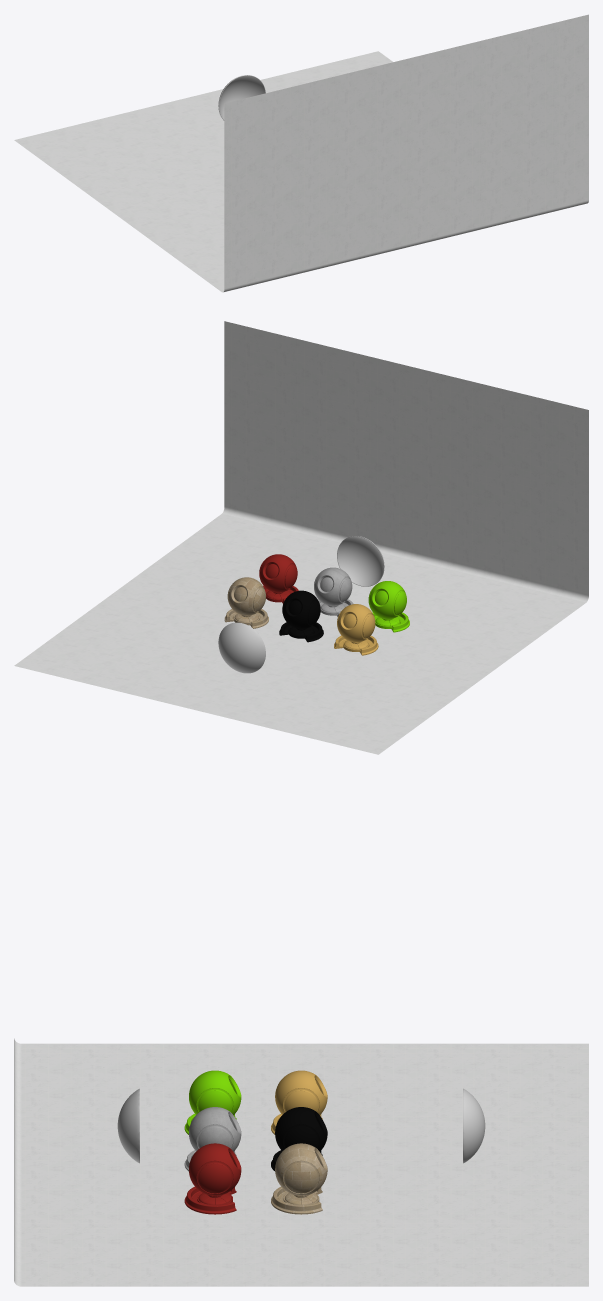
File: ShaderBalls.gltf
3 views of the same model, one above another, from view 1: azimuth 30°, elevation 25°; view 2: azimuth 150°, elevation 25°; view 3: azimuth 270°, elevation 25° (orthographic). The views are drawn at different scales.
Visible parts, largest first — view 1: Floor, LupaPupa_Icosphere; view 2: Floor, LupaPupa_Icosphere, PupaLupa_Icosphere, ShaderBall_Brick_Beige_ShaderBall, ShaderBall_Brick_Cinder_ShaderBall, ShaderBall_Brick_Yellow_ShaderBall, ShaderBall_Brick_Concrete_ShaderBall, ShaderBall_Concrete_Shimizu_ShaderBall, ShaderBall_Glass_ShaderBall; view 3: Floor, ShaderBall_Brick_Yellow_ShaderBall, ShaderBall_Concrete_Shimizu_ShaderBall, ShaderBall_Glass_ShaderBall, ShaderBall_Brick_Concrete_ShaderBall, ShaderBall_Brick_Beige_ShaderBall, ShaderBall_Brick_Cinder_ShaderBall, LupaPupa_Icosphere, PupaLupa_Icosphere.
Part boxes in pixels (<box>): Floor: <box>14,14,588,292</box>; LupaPupa_Icosphere: <box>218,75,265,120</box>; Floor: <box>14,321,588,754</box>; LupaPupa_Icosphere: <box>218,622,265,673</box>; PupaLupa_Icosphere: <box>337,536,384,586</box>; ShaderBall_Brick_Beige_ShaderBall: <box>279,590,323,642</box>; ShaderBall_Brick_Cinder_ShaderBall: <box>334,604,378,655</box>; ShaderBall_Brick_Yellow_ShaderBall: <box>224,577,268,628</box>; ShaderBall_Brick_Concrete_ShaderBall: <box>368,581,409,632</box>; ShaderBall_Concrete_Shimizu_ShaderBall: <box>259,554,298,603</box>; ShaderBall_Glass_ShaderBall: <box>314,567,353,616</box>; Floor: <box>14,1038,588,1286</box>; ShaderBall_Brick_Yellow_ShaderBall: <box>271,1143,327,1214</box>; ShaderBall_Concrete_Shimizu_ShaderBall: <box>184,1143,241,1214</box>; ShaderBall_Glass_ShaderBall: <box>184,1107,241,1171</box>; ShaderBall_Brick_Concrete_ShaderBall: <box>184,1070,241,1134</box>; ShaderBall_Brick_Beige_ShaderBall: <box>271,1107,327,1171</box>; ShaderBall_Brick_Cinder_ShaderBall: <box>271,1070,327,1134</box>; LupaPupa_Icosphere: <box>463,1088,485,1163</box>; PupaLupa_Icosphere: <box>117,1088,139,1163</box>.
Bounding box in the file's own units: 20 × 10 × 20.
